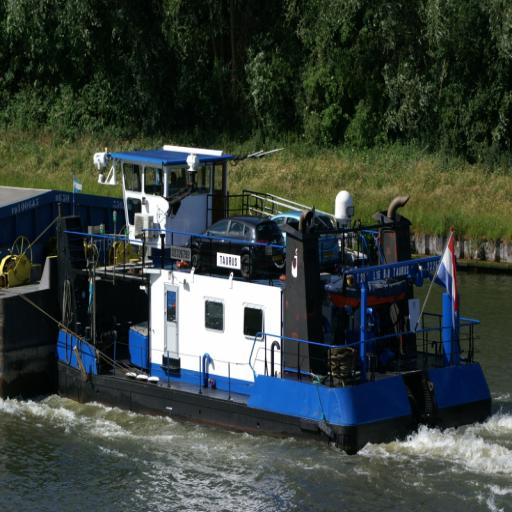tugboat: (44, 133, 495, 465)
